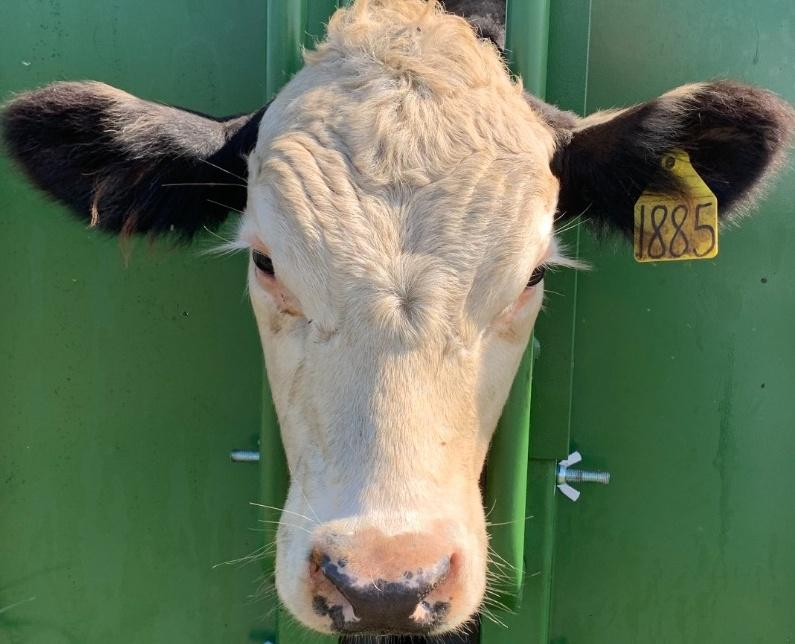muzzles: (264, 516, 507, 644)
